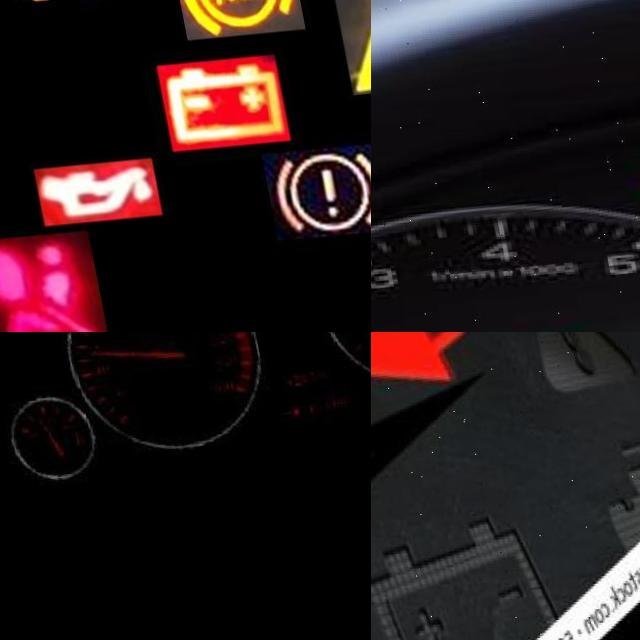Central Warning lamp: (322, 0, 371, 104)
Engine cooling system: (49, 433, 65, 448)
